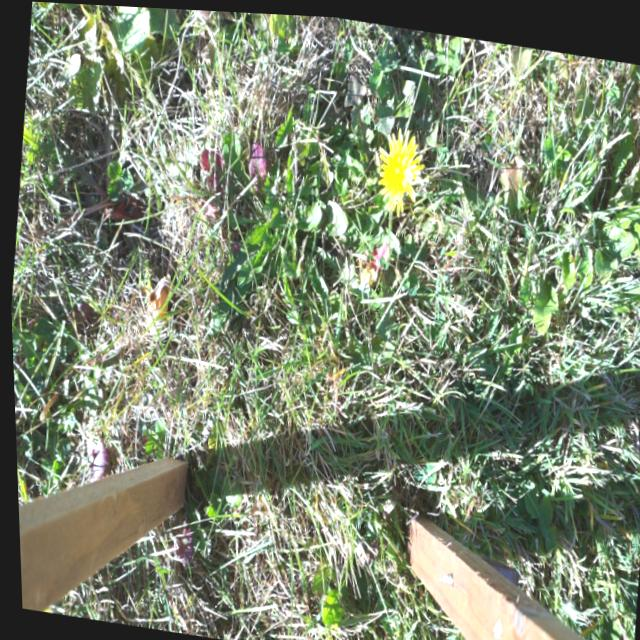base: (379, 211, 398, 241)
